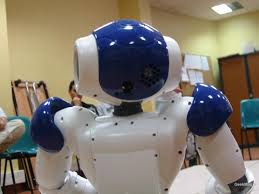nao: (25, 10, 258, 194)
